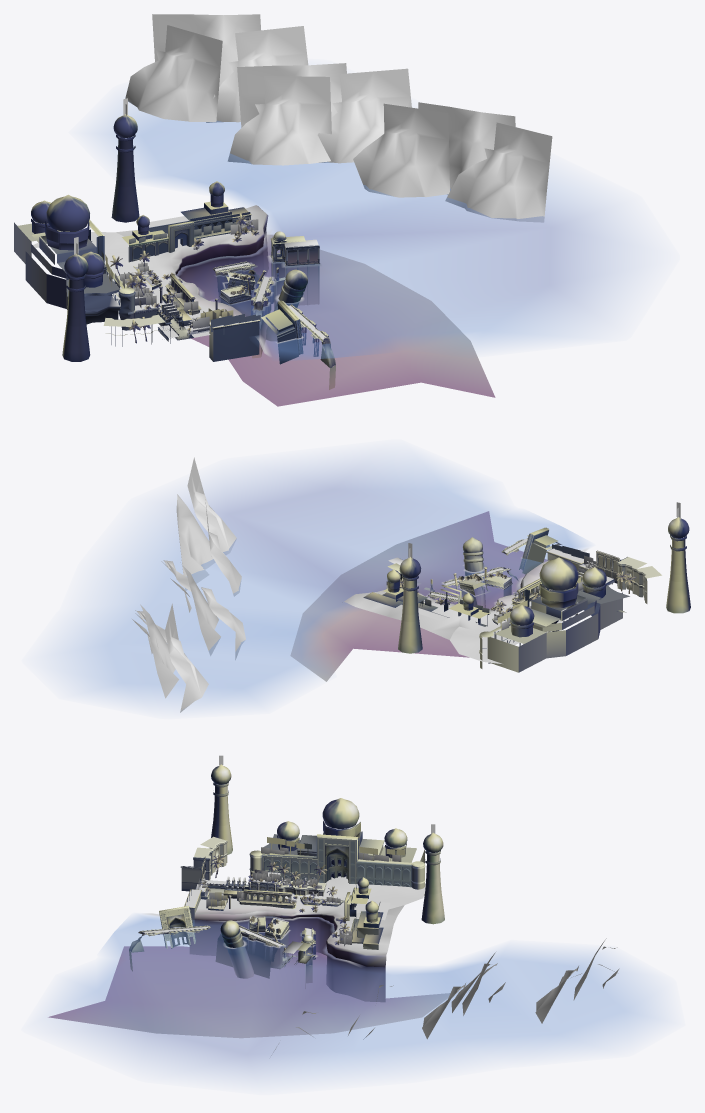
The model's file is 05Islands.gltf.
3 renders of one model, top to bottom at view 1: azimuth 30°, elevation 25°; view 2: azimuth 150°, elevation 25°; view 3: azimuth 270°, elevation 25°, orthographic. The views are drawn at different scales.
Parts seen in each view (by area): view 1: stg013_w12_Mesh_0000, stg010_p19_Mesh_0001, stg010_o12_Mesh_0039, stg010_o13_Mesh_0005, stg010_o12_Mesh_0032, stg010_o19_Mesh_0003, stg010_o19_Mesh_0010, stg010_p13_Mesh_0001, stg010_o19_Mesh_0007, stg010_o19_Mesh_0001, stg010_o19_Mesh_0002, stg010_o13_Mesh_0052 (+13 smaller); view 2: stg013_w12_Mesh_0000, stg010_o12_Mesh_0039, stg010_p19_Mesh_0001, stg010_o13_Mesh_0005, stg010_o12_Mesh_0032, stg010_o19_Mesh_0003, stg010_o19_Mesh_0010, stg010_o19_Mesh_0001, stg010_o19_Mesh_0000, stg010_o19_Mesh_0007, stg010_o13_Mesh_0047, stg010_o19_Mesh_0008 (+6 smaller); view 3: stg013_w12_Mesh_0000, stg010_o12_Mesh_0039, stg010_o13_Mesh_0005, stg010_o19_Mesh_0002, stg010_o19_Mesh_0007, stg010_o19_Mesh_0003, stg010_o19_Mesh_0010, stg010_o13_Mesh_0052, stg010_o19_Mesh_0008, stg010_o19_Mesh_0006, stg010_p19_Mesh_0001, stg010_p13_Mesh_0001 (+10 smaller).
Part boxes in pixels (box(x1,y1,x2,y2)): stg013_w12_Mesh_0000: box(91, 101, 635, 359); stg010_p19_Mesh_0001: box(125, 14, 552, 222); stg010_o12_Mesh_0039: box(191, 234, 495, 406); stg010_o13_Mesh_0005: box(17, 194, 328, 364); stg010_o12_Mesh_0032: box(14, 222, 317, 361); stg010_o19_Mesh_0003: box(31, 114, 325, 340); stg010_o19_Mesh_0010: box(33, 232, 238, 337); stg010_p13_Mesh_0001: box(109, 217, 260, 334); stg010_o19_Mesh_0007: box(31, 184, 328, 341); stg010_o19_Mesh_0001: box(62, 147, 139, 361); stg010_o19_Mesh_0002: box(177, 228, 268, 300); stg010_o13_Mesh_0052: box(104, 215, 329, 367); stg013_w12_Mesh_0000: box(51, 456, 589, 709); stg010_o12_Mesh_0039: box(290, 511, 547, 681); stg010_p19_Mesh_0001: box(132, 457, 245, 712); stg010_o13_Mesh_0005: box(363, 527, 661, 663); stg010_o12_Mesh_0032: box(487, 554, 622, 672); stg010_o19_Mesh_0003: box(399, 517, 689, 625); stg010_o19_Mesh_0010: box(450, 565, 581, 663); stg010_o19_Mesh_0001: box(398, 546, 690, 653); stg010_o19_Mesh_0000: box(344, 590, 464, 639); stg010_o19_Mesh_0007: box(400, 540, 687, 654); stg010_o13_Mesh_0047: box(363, 548, 591, 621); stg010_o19_Mesh_0008: box(402, 540, 686, 632); stg013_w12_Mesh_0000: box(47, 914, 664, 1080); stg010_o12_Mesh_0039: box(48, 946, 450, 1038); stg010_o13_Mesh_0005: box(142, 831, 424, 988); stg010_o19_Mesh_0002: box(189, 916, 385, 1002); stg010_o19_Mesh_0007: box(140, 822, 442, 965); stg010_o19_Mesh_0003: box(141, 764, 443, 944); stg010_o19_Mesh_0010: box(196, 876, 425, 913); stg010_o13_Mesh_0052: box(131, 845, 411, 978); stg010_o19_Mesh_0008: box(161, 808, 440, 969); stg010_o19_Mesh_0006: box(161, 782, 440, 944); stg010_p19_Mesh_0001: box(271, 938, 619, 1055); stg010_p13_Mesh_0001: box(185, 847, 401, 946).
Size of the model in its own units: 784 by 224 by 894.
